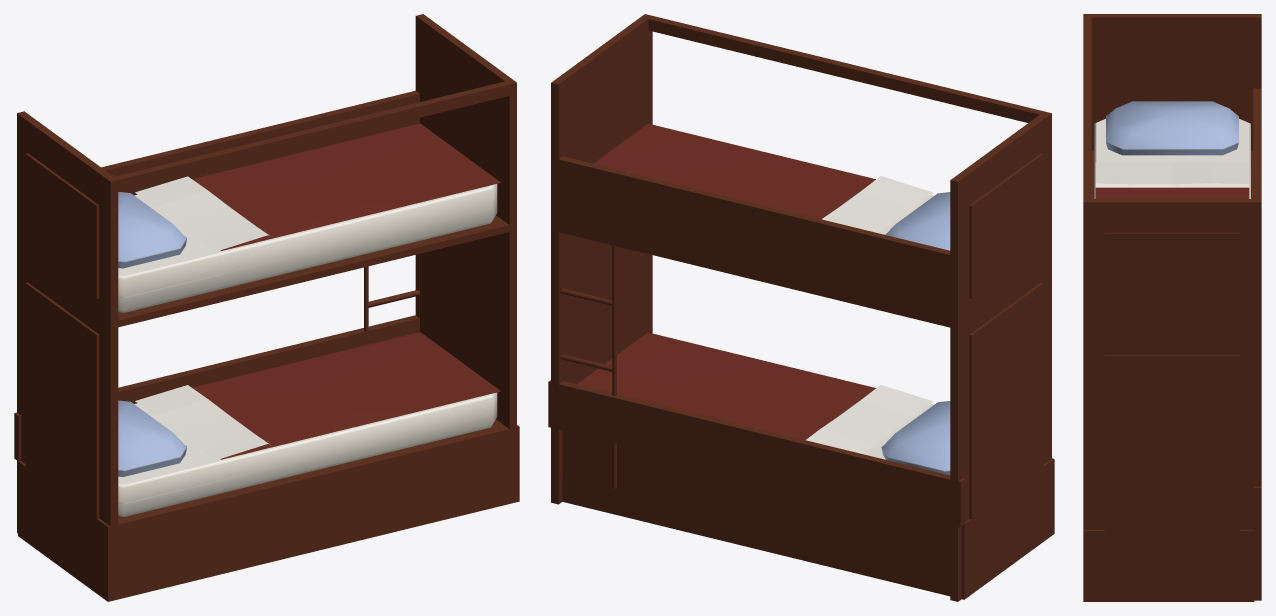
The model's file is parametric-berth_double-3rd.glb.
3 renders of one model, left to right at view 1: azimuth 30°, elevation 25°; view 2: azimuth 150°, elevation 25°; view 3: azimuth 270°, elevation 25°, orthographic. The views are drawn at different scales.
Visible parts, largest first — view 1: parametric-berth_double-3rd; view 2: parametric-berth_double-3rd; view 3: parametric-berth_double-3rd.
Part boxes in pixels (box(x1,y1,x2,y2)): parametric-berth_double-3rd: box(14, 14, 519, 601); parametric-berth_double-3rd: box(548, 14, 1054, 601); parametric-berth_double-3rd: box(1083, 14, 1261, 601).
Size of the model in its own units: 1.9 by 1.85 by 0.75.
